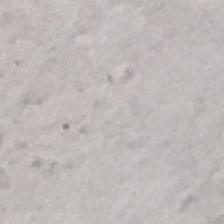Non_Crack: (18, 25, 200, 184)
